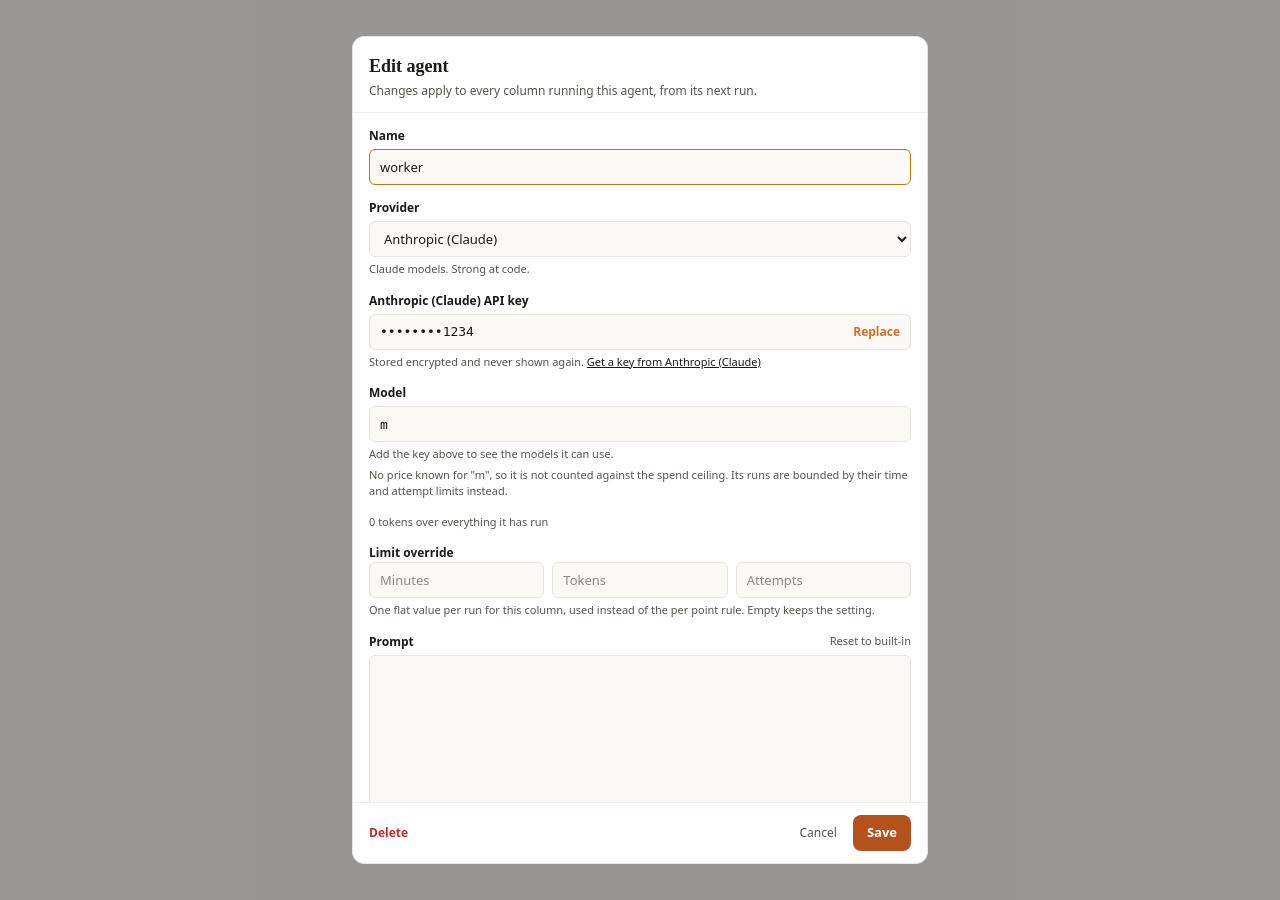
Test: AgentEditor limit override › refuses a value that is not a whole number of at least 1, and writes nothing
Type "0" into the field named "Minutes override" at [457, 580], box [369, 562, 544, 598]
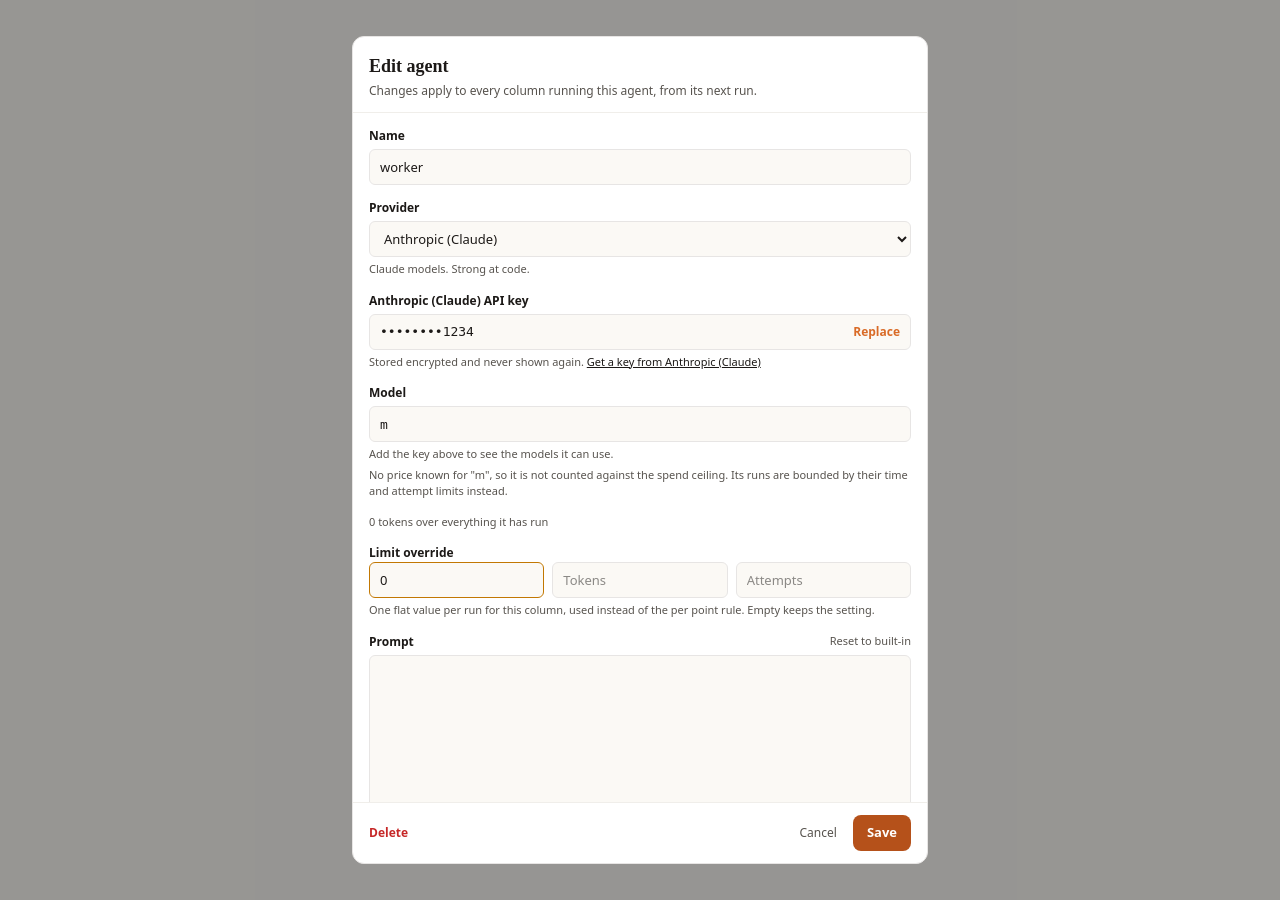
Click the button "Save" at [882, 833], box [853, 815, 911, 851]
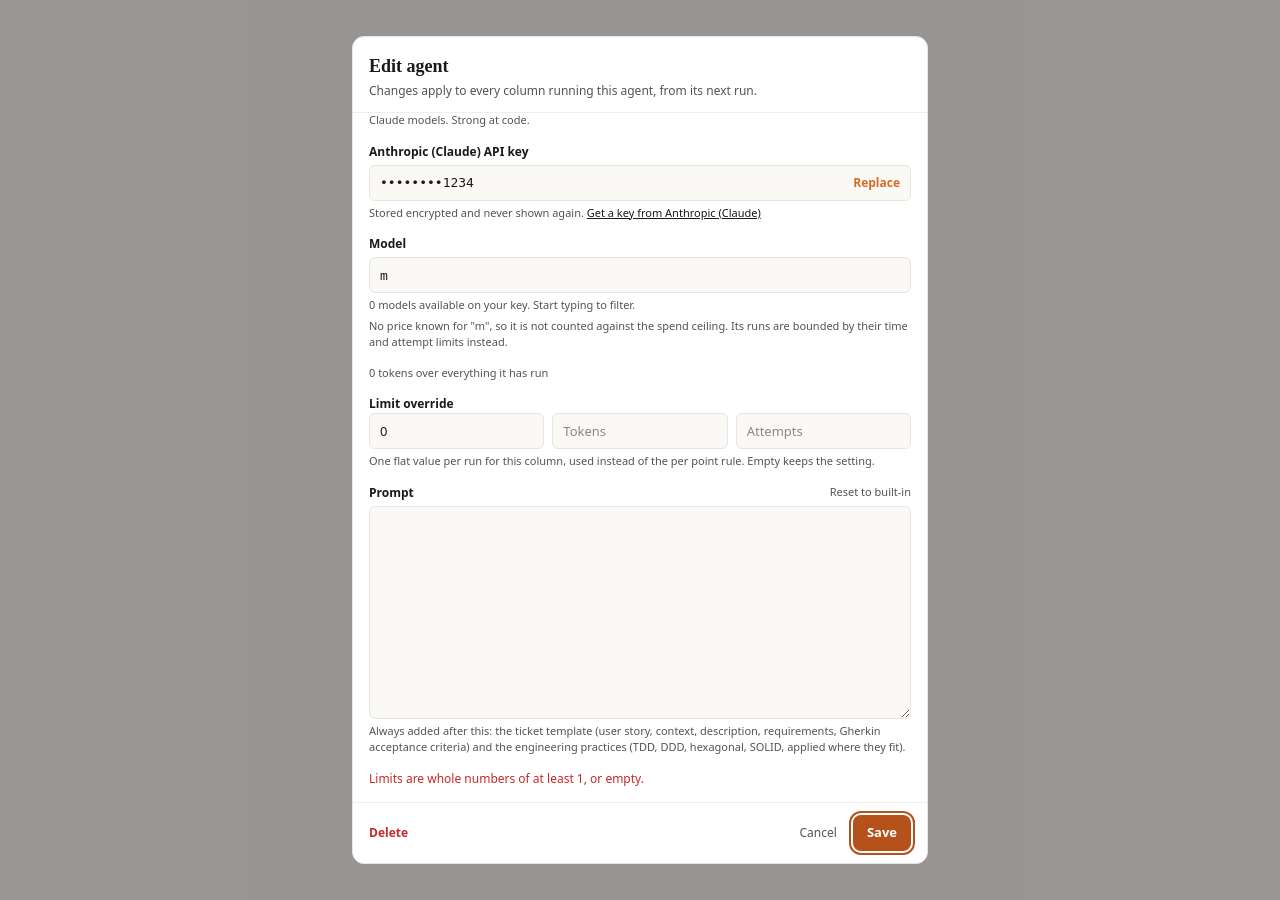
Expected: the message shows "whole numbers of at least 1", [369, 770, 644, 786]
